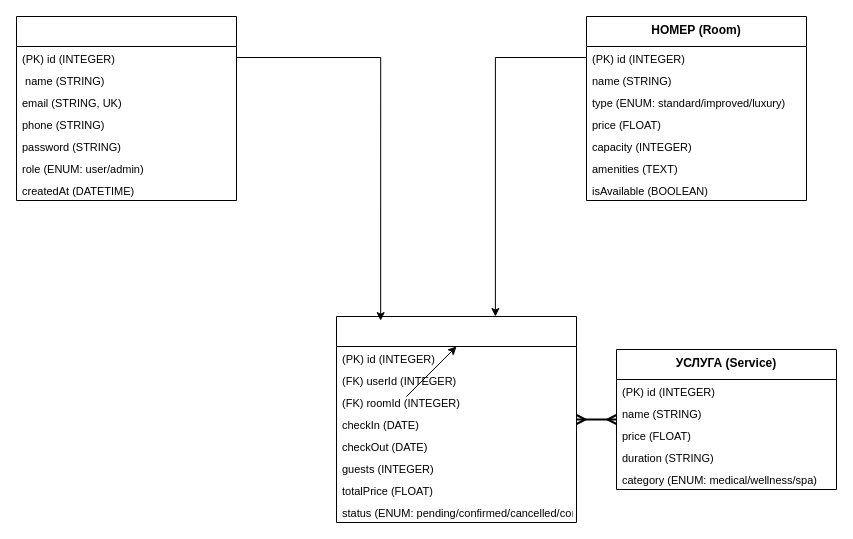
This 853x539 diagram has some shape labels left out. The box of each missing label's shape, as (x1, y1, x2, y2) in pixels:
БРОНИРОВАНИЕ (Booking): (336, 316, 576, 522)
ПОЛЬЗОВАТЕЛЬ (User): (16, 16, 236, 200)
